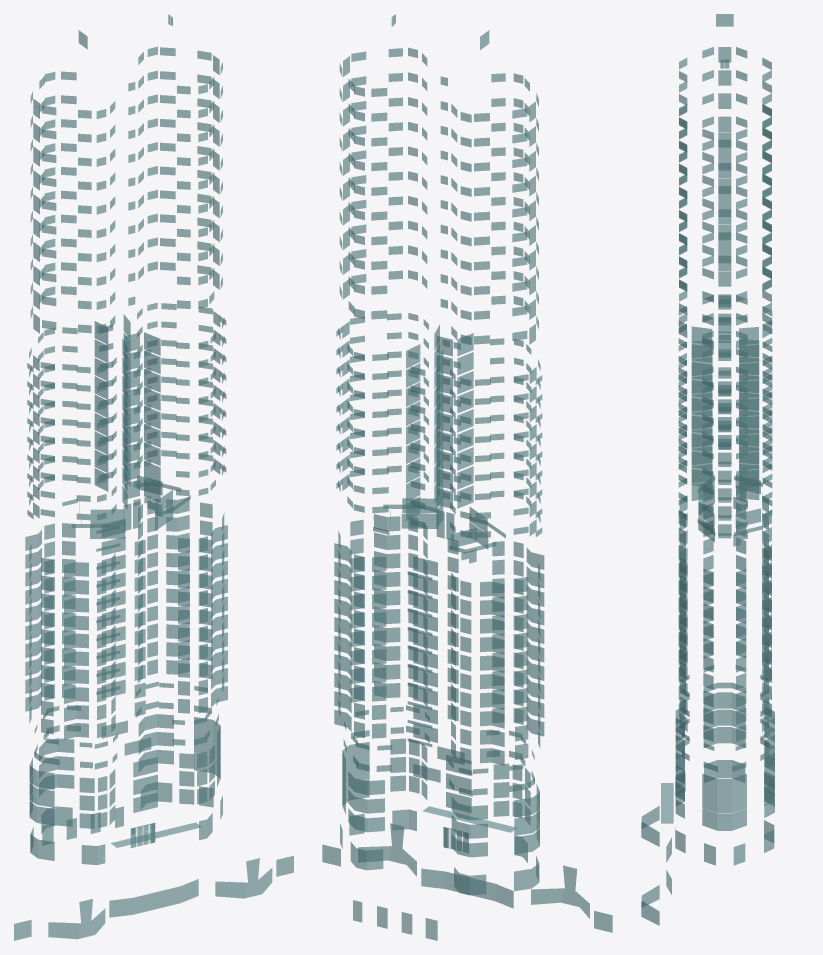
File: skyscraper_window.glb
3 views of the same model, side by side, from view 1: azimuth 30°, elevation 25°; view 2: azimuth 150°, elevation 25°; view 3: azimuth 270°, elevation 25° (orthographic). The views are drawn at different scales.
Parts seen in each view (by area): view 1: Object_7.002; view 2: Object_7.002; view 3: Object_7.002.
Part boxes in pixels (x1,y1,x2,y2): Object_7.002: [14, 14, 293, 940]; Object_7.002: [322, 14, 612, 940]; Object_7.002: [641, 14, 774, 925].
Size of the model in its own units: 49.2 by 145 by 26.2.
